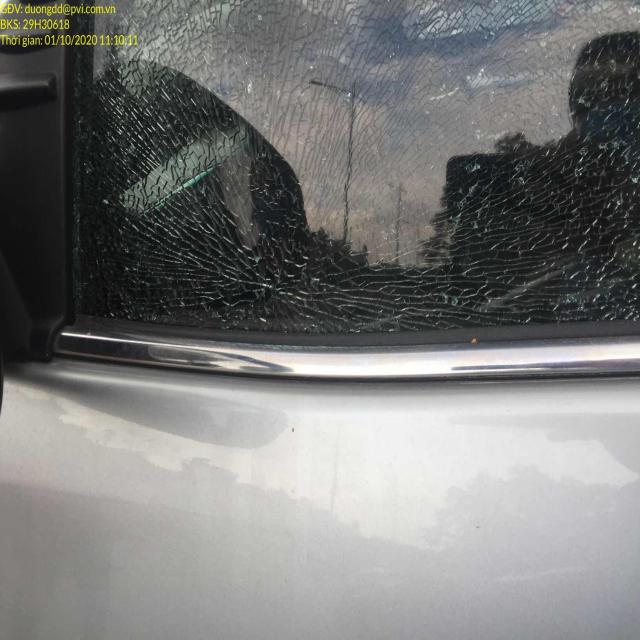Fissure: (85, 193, 280, 306), (475, 232, 639, 304), (83, 3, 191, 97), (226, 1, 302, 115), (414, 1, 460, 91)
